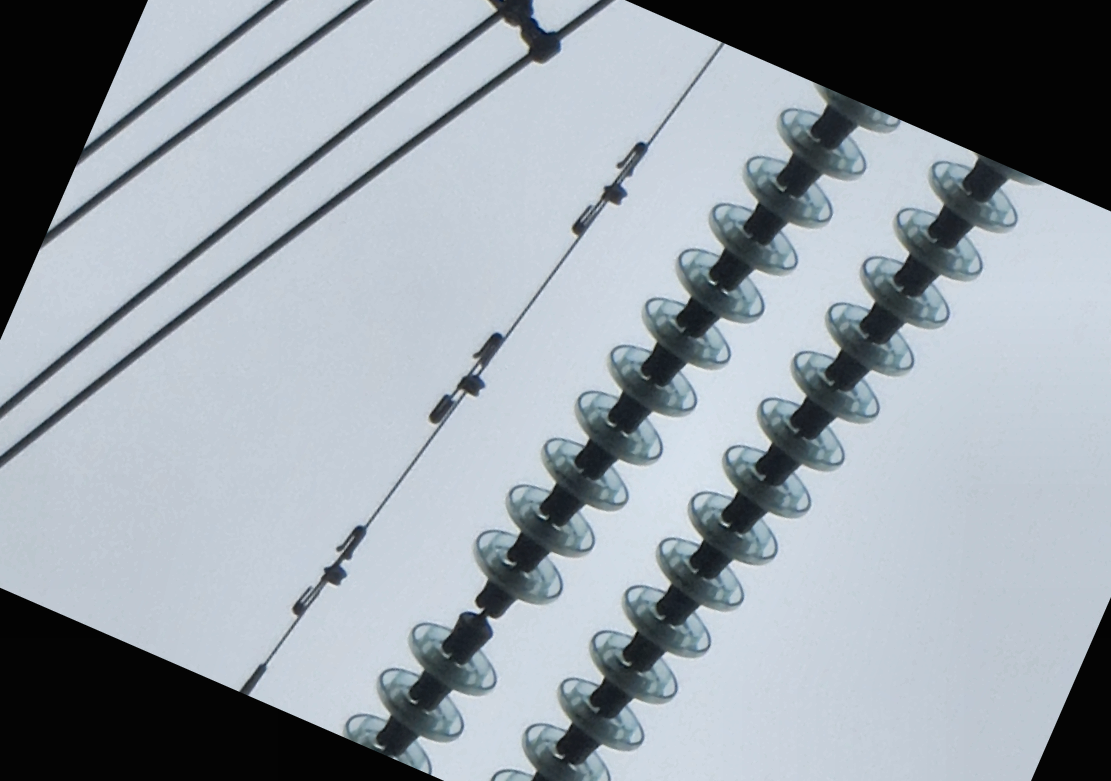damper: (569, 135, 652, 240), (425, 327, 507, 430), (289, 522, 368, 618)
